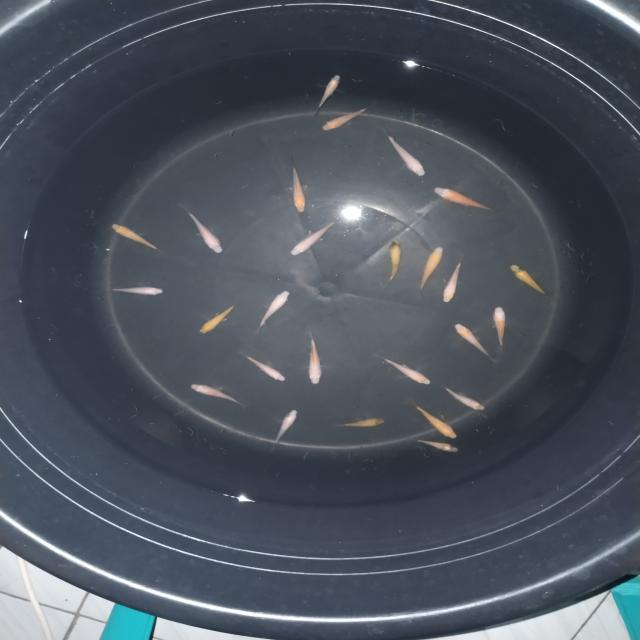nila: (179, 206, 229, 256), (383, 127, 428, 180), (412, 240, 454, 296), (452, 320, 502, 366), (284, 220, 336, 260), (431, 183, 498, 213), (506, 263, 557, 302), (410, 402, 462, 440), (108, 220, 166, 254), (254, 284, 294, 333), (183, 378, 248, 408), (380, 355, 434, 388), (438, 382, 488, 414), (282, 156, 310, 213), (320, 104, 375, 132), (195, 302, 240, 336), (270, 406, 304, 450), (312, 68, 345, 112), (301, 328, 326, 386), (238, 353, 288, 381), (438, 256, 466, 306), (384, 236, 408, 288), (409, 437, 462, 455), (110, 282, 166, 298), (492, 300, 509, 352), (332, 416, 389, 430)
